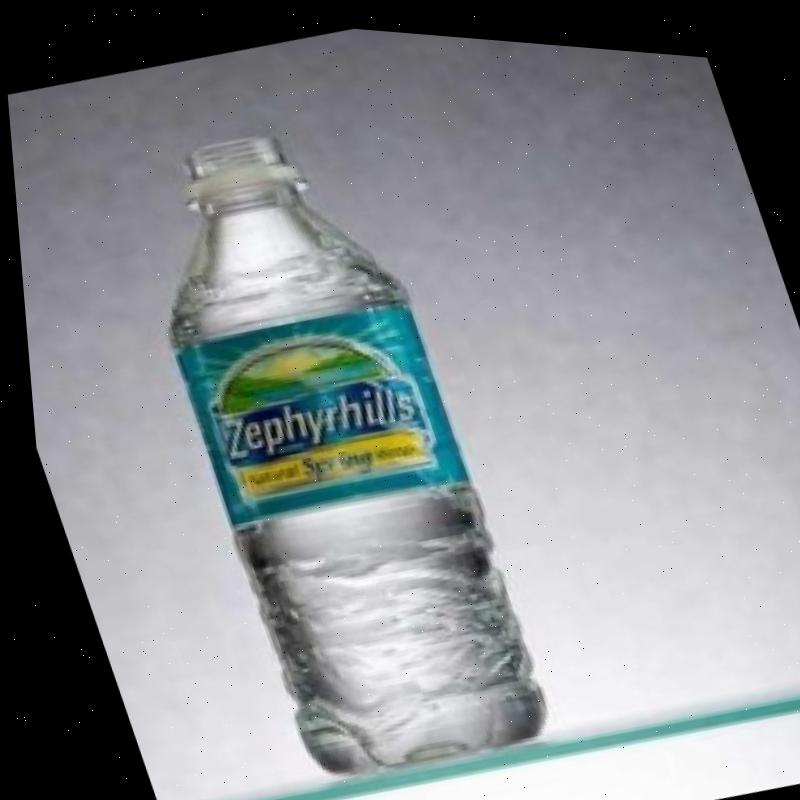botella: (99, 92, 550, 800)
